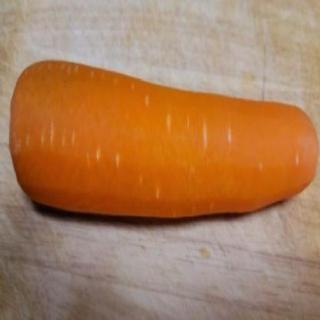carrot: (6, 53, 319, 225)
